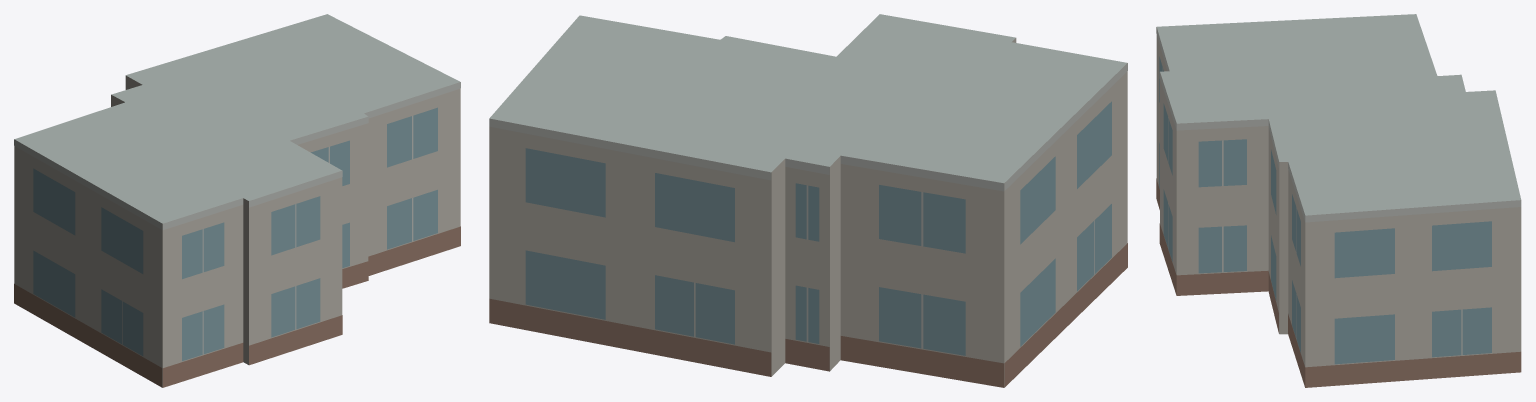
File: survey-upis-32575463.glb
3 renders of one model, left to right at view 1: azimuth 30°, elevation 25°; view 2: azimuth 150°, elevation 25°; view 3: azimuth 270°, elevation 25°, orthographic. The views are drawn at different scales.
Visible parts, largest first — view 1: survey-upis-32575463.tmp; view 2: survey-upis-32575463.tmp; view 3: survey-upis-32575463.tmp.
Boxes of the visible parts, x1=… form: survey-upis-32575463.tmp: x1=14, y1=14, x2=460, y2=387; survey-upis-32575463.tmp: x1=489, y1=14, x2=1127, y2=387; survey-upis-32575463.tmp: x1=1156, y1=14, x2=1521, y2=387.
Size of the model in its own units: 15.32 by 6.1 by 11.72.
